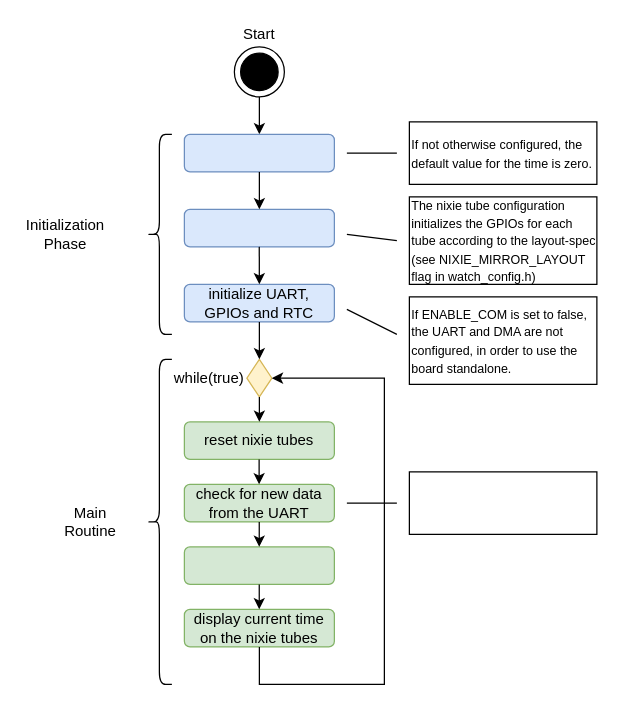
The diagram is 619 pixels wide and 716 high, and some of its shapes have lost their labels. Each missing label, with the box of its shape:
assign default values: (183, 133, 334, 172)
initialize nixie tubes: (183, 208, 334, 247)
read current time from RTC: (183, 546, 334, 584)
Same as above, in case ENABLE_COM is false, this step is skipped.: (408, 471, 597, 534)
